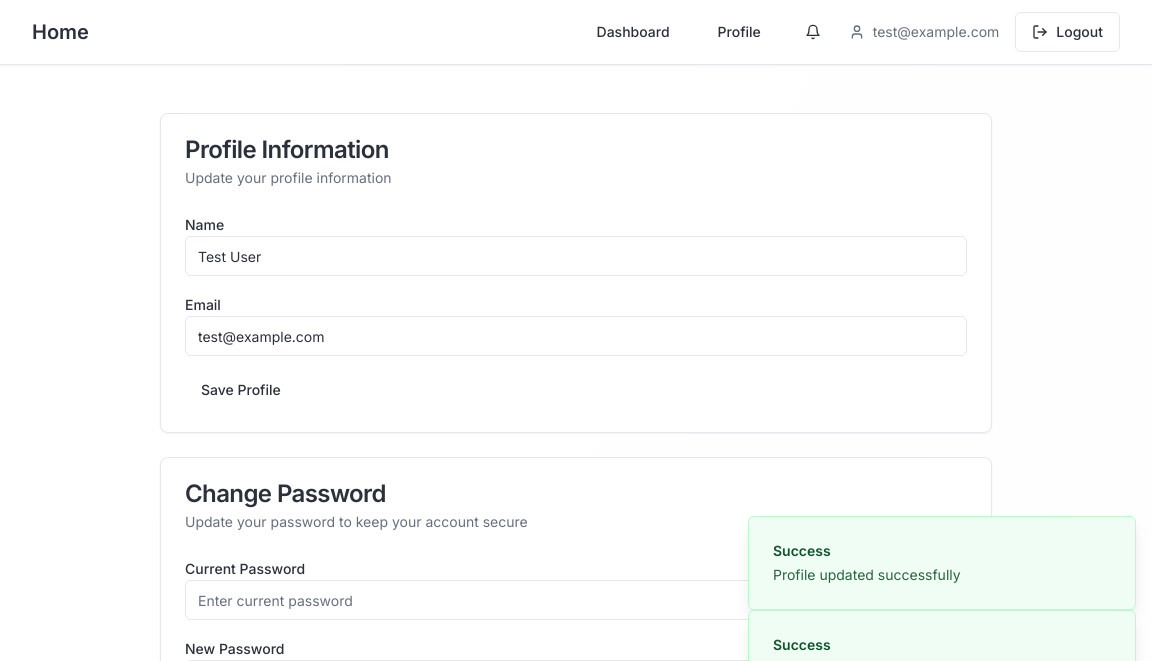
Scenario: Profile Page › should validate email format
This screenshot has width=1152, height=661.
Replace the text in the field labelled "Email" with "invalid-email" at [576, 336], box [185,316,967,356]
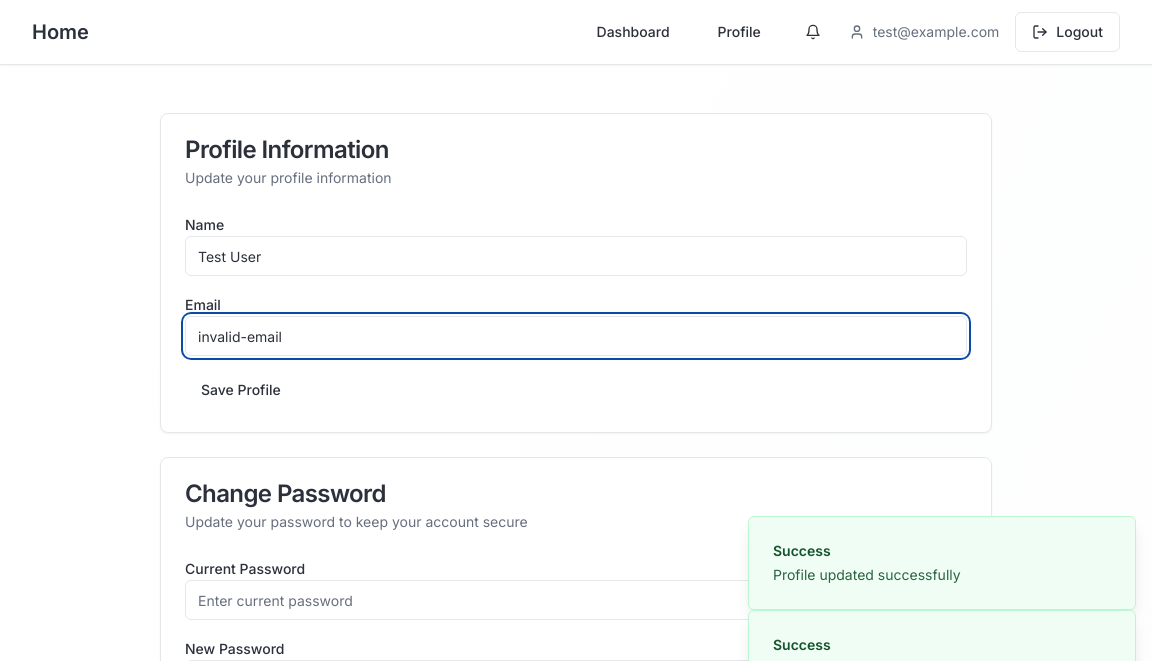
Submit the form labelled "Name Email Save Profile", box [185,212,967,408]
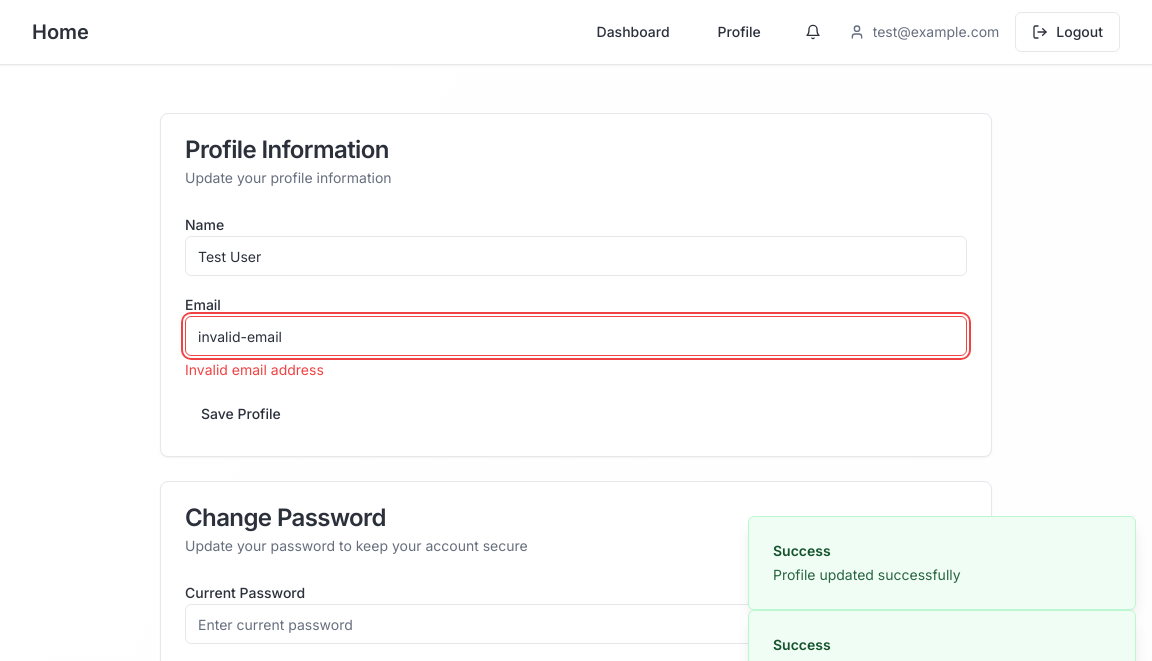
Now the text "Invalid email address" is shown, box [185,361,324,378]
